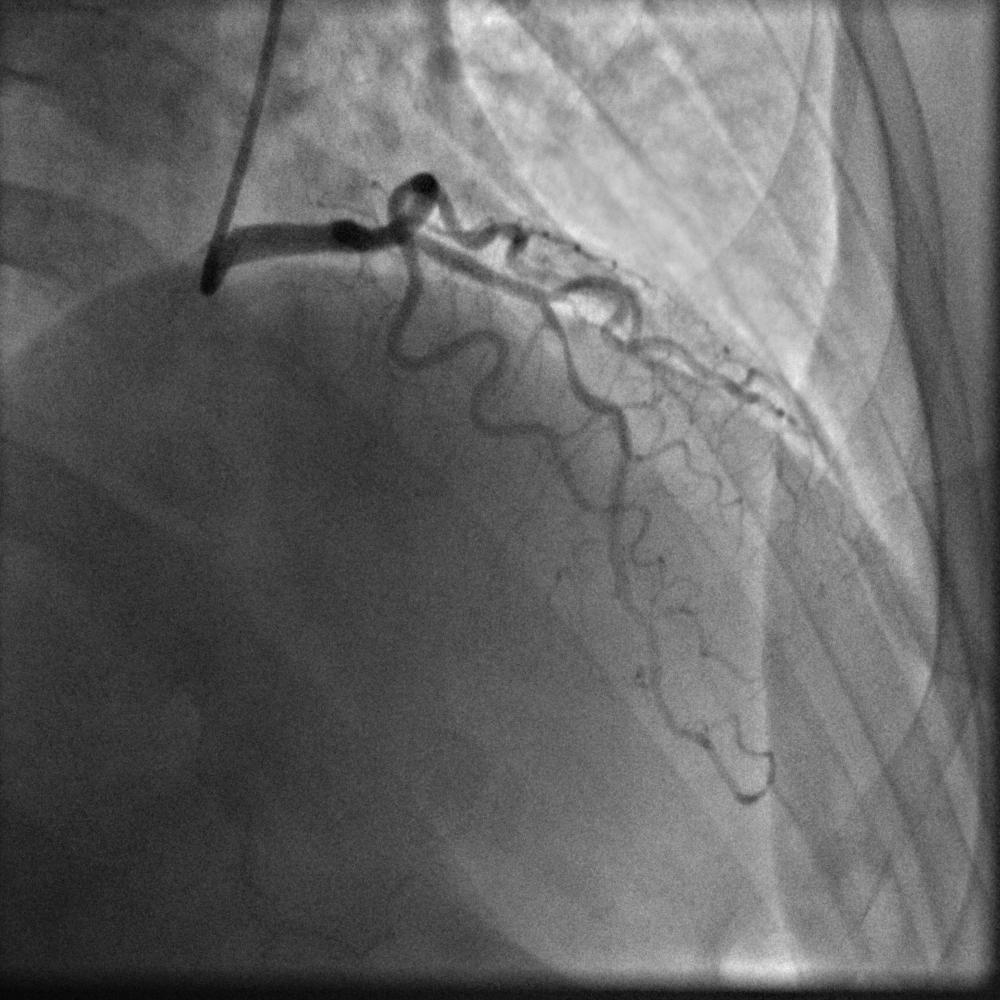Stenosis: (547, 310, 587, 391)
